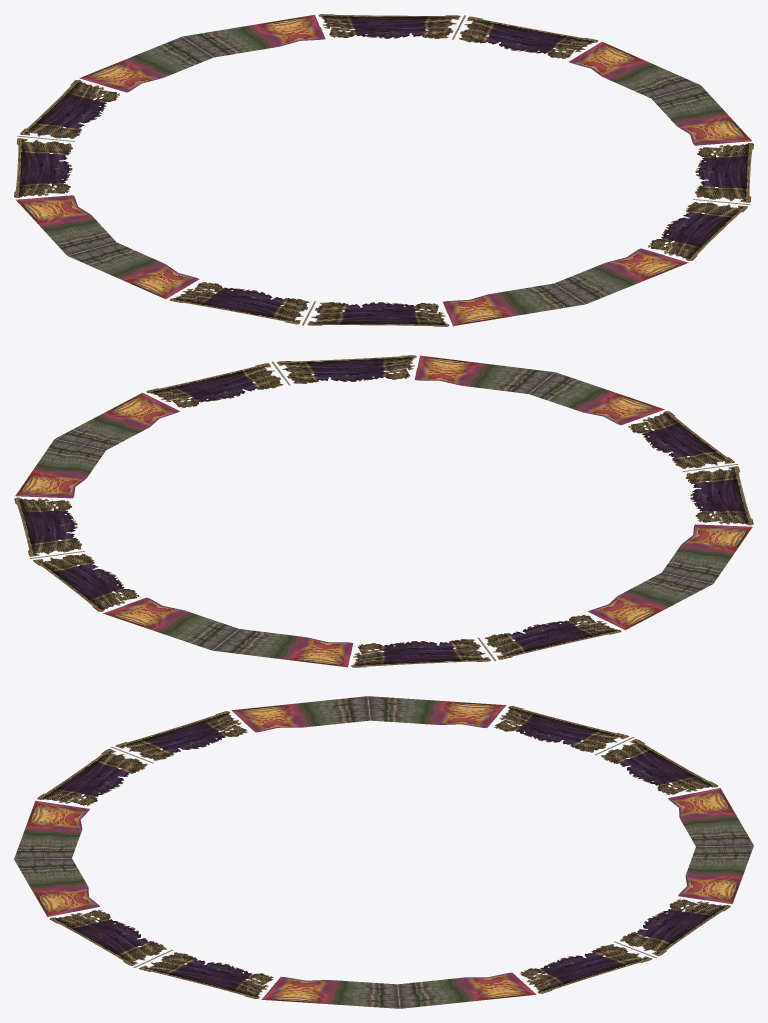
The model's file is jjc_mx_lang.FBX.
3 views of the same model, one above another, from view 1: azimuth 30°, elevation 25°; view 2: azimuth 150°, elevation 25°; view 3: azimuth 270°, elevation 25° (orthographic).
Visible parts, largest first — view 1: jjc_mx_lang; view 2: jjc_mx_lang; view 3: jjc_mx_lang.
Part boxes in pixels (x1,y1,x2,y2): jjc_mx_lang: (14, 14, 753, 326); jjc_mx_lang: (14, 355, 753, 667); jjc_mx_lang: (14, 696, 753, 1008).
Bounding box in the file's own units: 5713 × 0.000977 × 5713.
